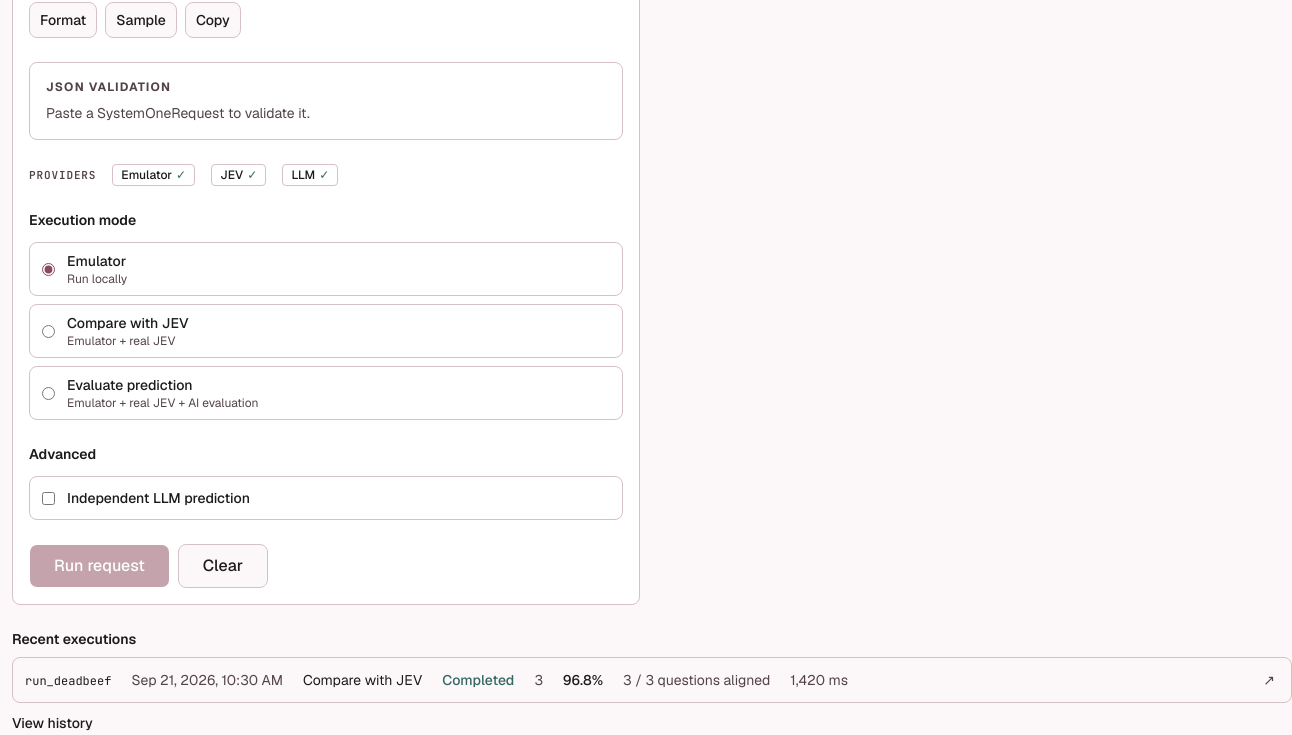
Test: PrincipalView — P45 hydration landings set the session case (T1.2) › sets the session case when a persisted failed snapshot hydrates (§66 is a loaded case)
(page scrolled)
What coordinates should you click on to do the following:
click the button with aria-label "Load execution run_deadbeef — Compare with JEV, Completed"
I would click on:
 (630, 680)
Its box is [13,660,1247,700].
(page scrolled)
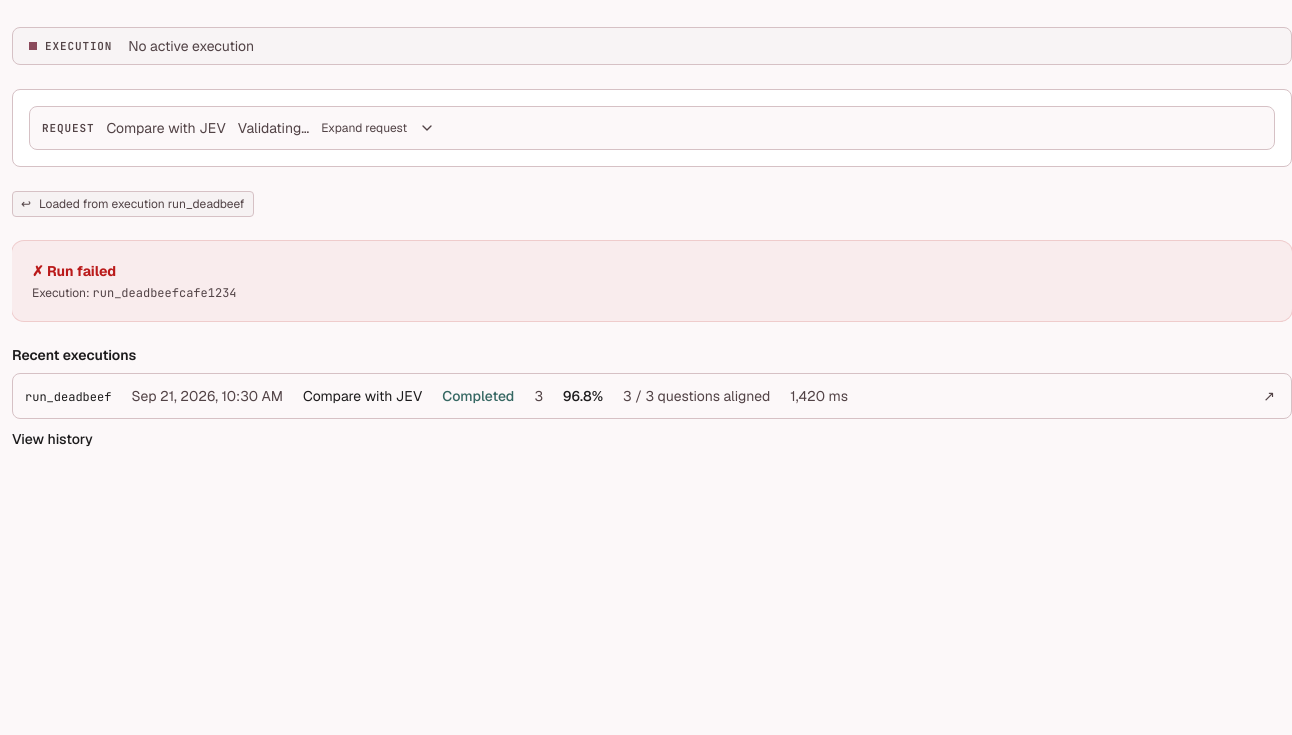
Result: the text "✗ Run failed" is shown at [32,262,116,280]
Result: the text "run_deadbeefcafe1234" is shown at [92,285,236,301]
